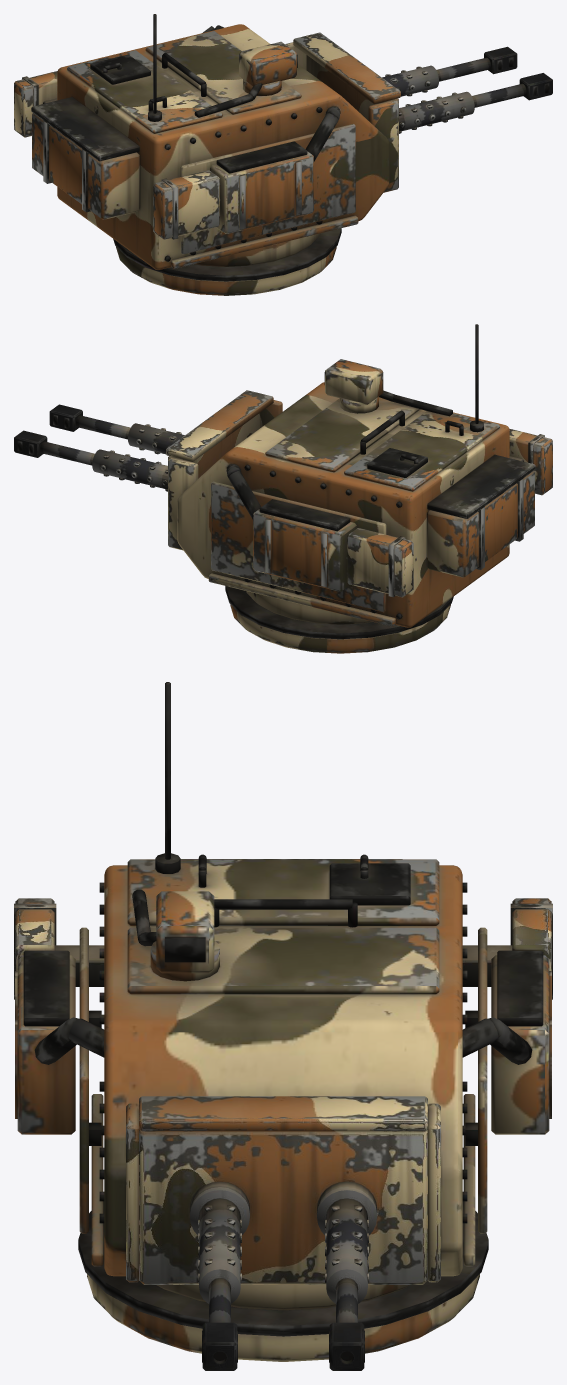
The model's file is turret_grach_t3.glb.
3 renders of one model, top to bottom at view 1: azimuth 30°, elevation 25°; view 2: azimuth 150°, elevation 25°; view 3: azimuth 270°, elevation 25°, orthographic. The views are drawn at different scales.
Visible parts, largest first — view 1: turret_light_t3, guns, pods; view 2: turret_light_t3, guns, pods; view 3: turret_light_t3, guns, pods.
Boxes of the visible parts, x1,y1,x2,y2 form: turret_light_t3: [31, 14, 389, 295]; guns: [285, 32, 552, 192]; pods: [14, 71, 220, 239]; turret_light_t3: [177, 324, 535, 653]; guns: [14, 390, 282, 550]; pods: [346, 428, 552, 597]; turret_light_t3: [15, 682, 551, 1361]; guns: [126, 1096, 440, 1370]; pods: [14, 898, 552, 999].
Bounding box in the file's own units: 1.86 × 1.09 × 1.05.
Materials: 3 (3 with a texture image).
